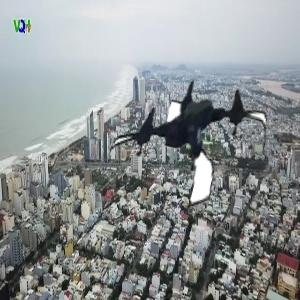drone: (115, 62, 268, 215)
